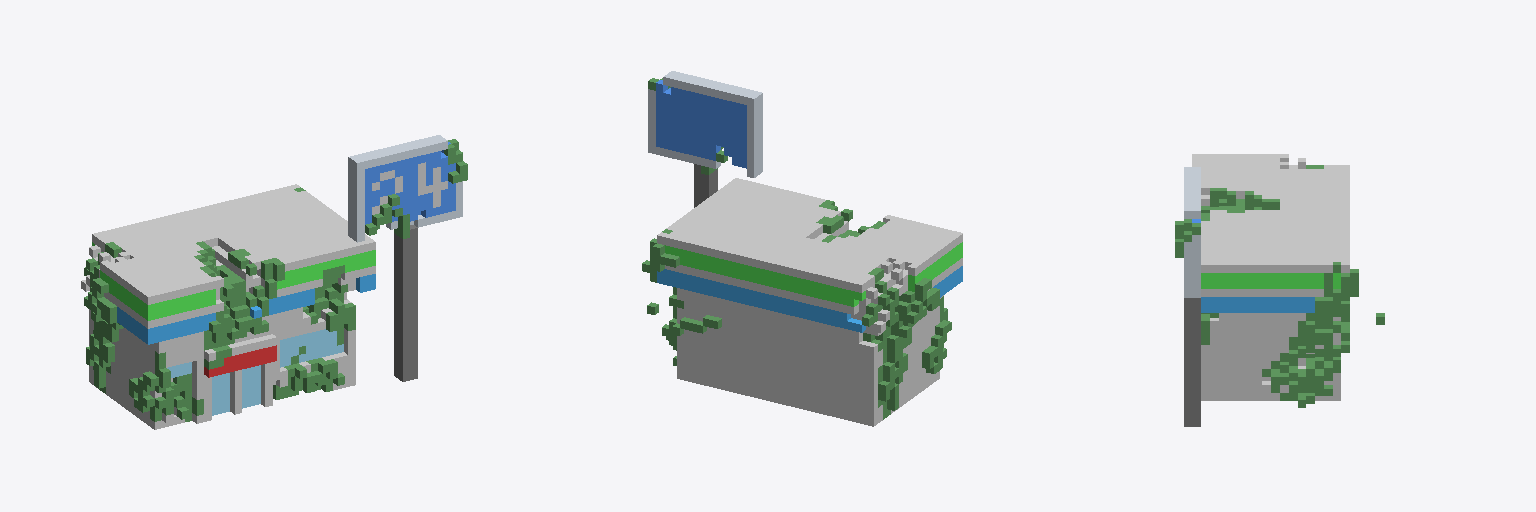
The picture shows the model from 3 angles: view 1: azimuth 30°, elevation 25°; view 2: azimuth 150°, elevation 25°; view 3: azimuth 270°, elevation 25°; orthographic projection.
Parts seen in each view (by area): view 1: object 1; view 2: object 1; view 3: object 1.
Part boxes in pixels (x1,y1,x2,y2): object 1: (81,135,467,429); object 1: (642,71,962,426); object 1: (1175,154,1384,426).
Bounding box in the file's own units: 4.2 × 2.9 × 2.4.
1 materials, 1 textured.